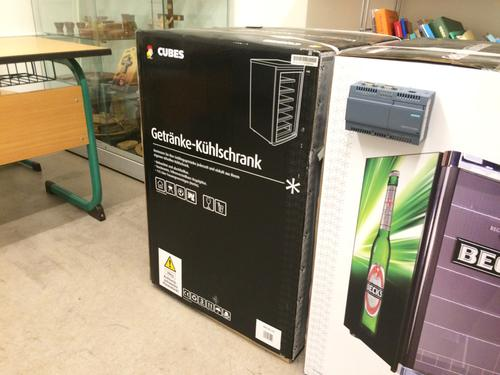iot2000: (345, 81, 437, 147)
